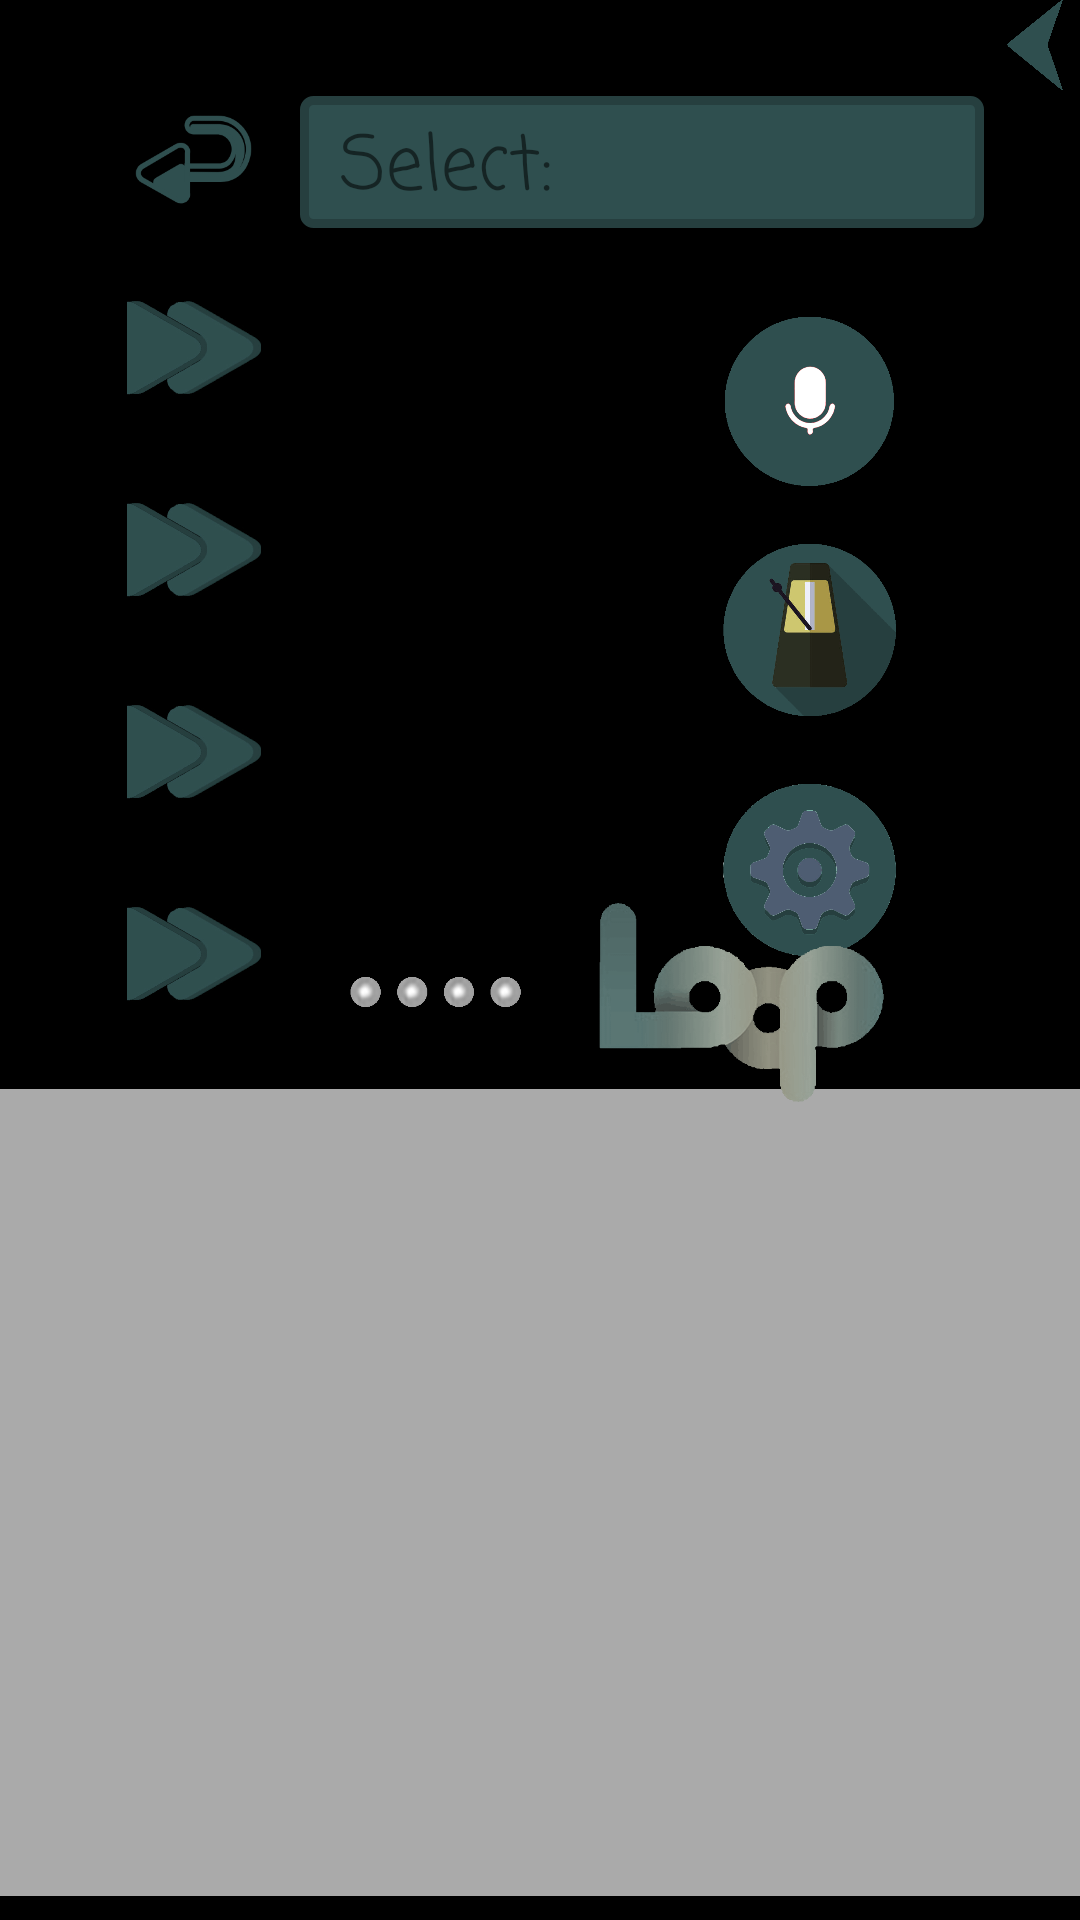

Locate icon controls on the screen. Image size 1080 x 1920, boxes as (x1=x1, y1=y1, x2=x2, y2=y2).
goback: (x1=136, y1=116, x2=251, y2=204)
set: (x1=720, y1=784, x2=896, y2=960)
